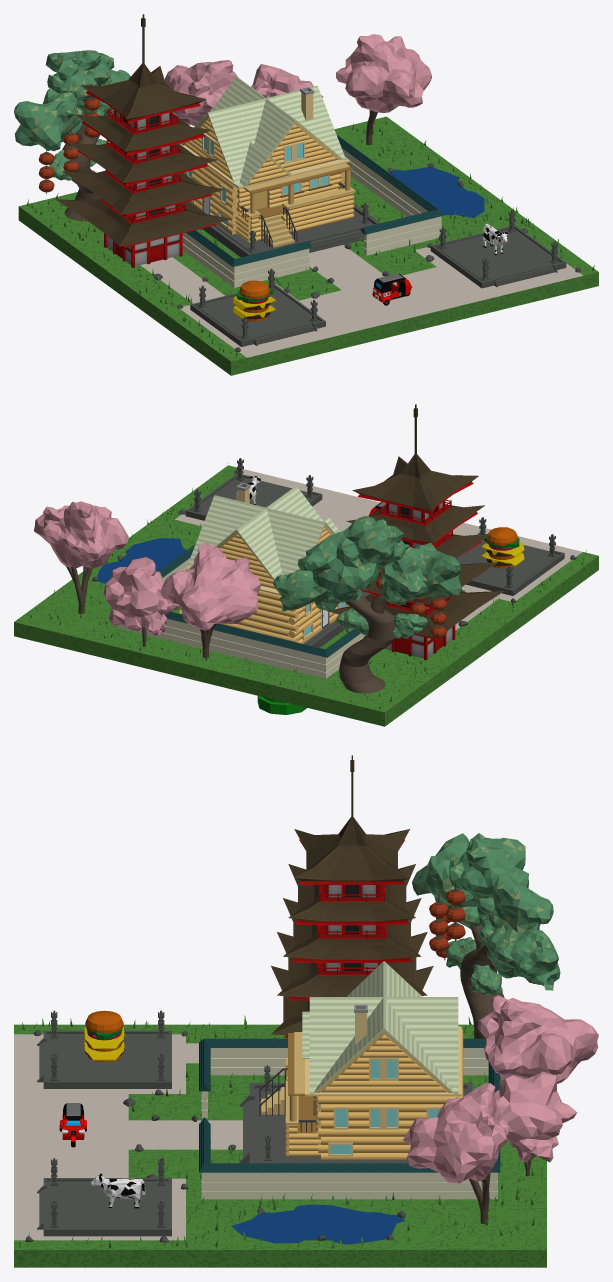
3 views of the same model, one above another, from view 1: azimuth 30°, elevation 25°; view 2: azimuth 150°, elevation 25°; view 3: azimuth 270°, elevation 25° (orthographic). The views are drawn at different scales.
Parts seen in each view (by area): view 1: Cube.005, Cube.1516, OBJRANDOM_HAMBURGER, VEHICLES_TUC_TUC; view 2: Cube.005, Cube.1516, OBJRANDOM_HAMBURGER, UNDERGROUND_PIPES; view 3: Cube.005, Cube.1516, OBJRANDOM_HAMBURGER, ANIMAL_VACA, VEHICLES_TUC_TUC.
Part boxes in pixels (x1,y1,x2,y2): Cube.005: (14, 14, 598, 375); Cube.1516: (179, 77, 355, 248); OBJRANDOM_HAMBURGER: (233, 280, 276, 321); VEHICLES_TUC_TUC: (372, 273, 412, 305); Cube.005: (14, 404, 598, 726); Cube.1516: (178, 482, 360, 643); OBJRANDOM_HAMBURGER: (480, 527, 524, 568); UNDERGROUND_PIPES: (257, 696, 306, 714); Cube.005: (14, 755, 598, 1267); Cube.1516: (259, 961, 463, 1159); OBJRANDOM_HAMBURGER: (83, 1010, 125, 1062); ANIMAL_VACA: (90, 1173, 145, 1208); VEHICLES_TUC_TUC: (59, 1103, 86, 1147).
Size of the model in its own units: 4528 by 3273 by 4389.
Materials: 45 (6 with a texture image).
